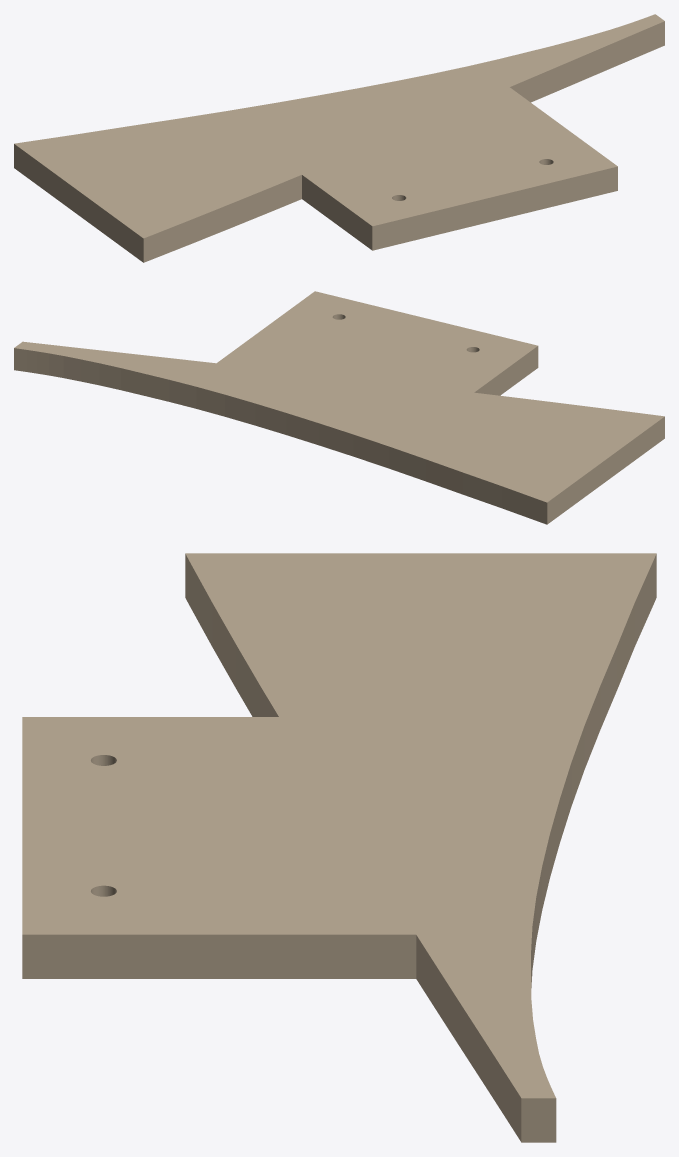
Rendered from T-HW-AIL.glb.
The picture shows the model from 3 angles, top to bottom: view 1: azimuth 30°, elevation 25°; view 2: azimuth 150°, elevation 25°; view 3: azimuth 270°, elevation 25°; orthographic projection. The views are drawn at different scales.
Parts seen in each view (by area): view 1: geometry_0; view 2: geometry_0; view 3: geometry_0.
Part boxes in pixels (x1,y1,x2,y2): geometry_0: [14, 14, 664, 262]; geometry_0: [14, 291, 664, 524]; geometry_0: [22, 553, 656, 1142].
Bounding box in the file's own units: 316 × 12 × 156.
